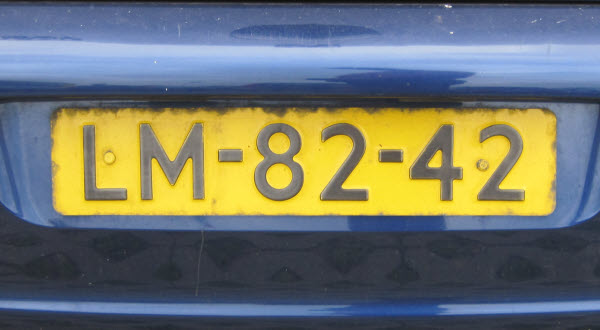license_plate: (51, 107, 559, 217)
